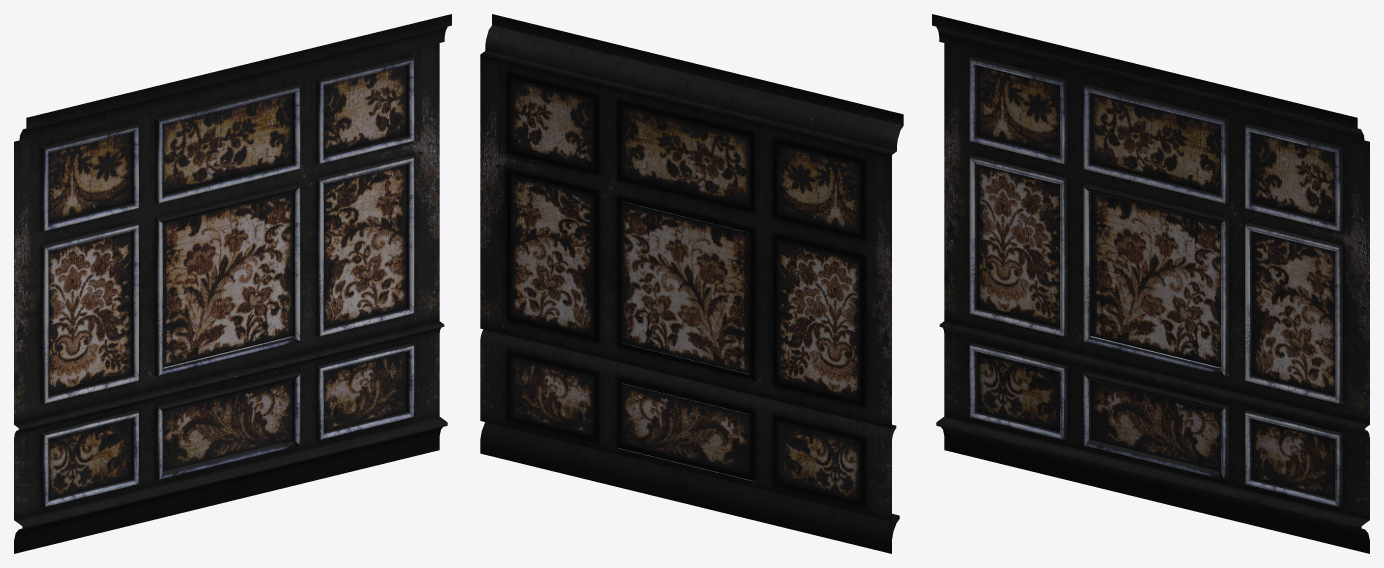
Rendered from default_rotten.dae.
3 views of the same model, side by side, from view 1: azimuth 30°, elevation 25°; view 2: azimuth 150°, elevation 25°; view 3: azimuth 330°, elevation 25° (orthographic). The views are drawn at different scales.
Parts seen in each view (by area): view 1: mansionbase_default; view 2: mansionbase_default; view 3: mansionbase_default.
Boxes of the visible parts, x1,y1,x2,y2 form: mansionbase_default: [14, 14, 451, 553]; mansionbase_default: [480, 14, 903, 553]; mansionbase_default: [932, 14, 1369, 553].
Size of the model in its own units: 4 by 4 by 0.2045.
